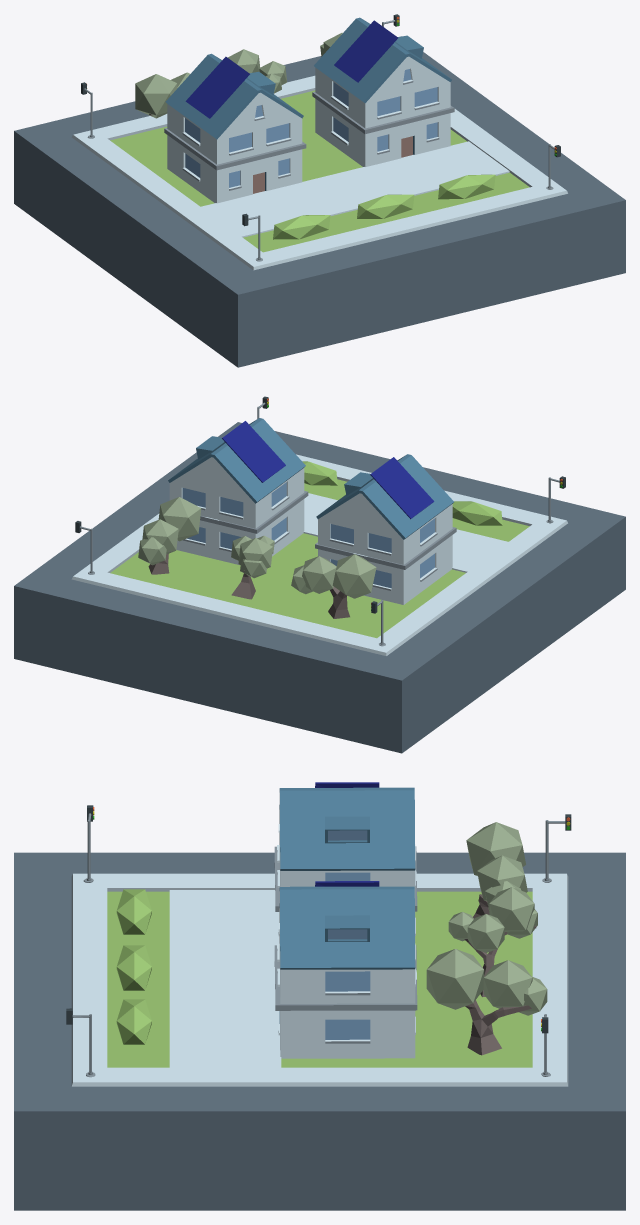
Rendered from smart-house.glb.
The picture shows the model from 3 angles, top to bottom: view 1: azimuth 30°, elevation 25°; view 2: azimuth 150°, elevation 25°; view 3: azimuth 270°, elevation 25°; orthographic projection. The views are drawn at different scales.
Parts seen in each view (by area): view 1: Cube.001, Cube, Cube.002, Cube.007, Plane.001, Icosphere, Icosphere.001, Icosphere.002, Cube.003; view 2: Cube.001, Cube, Cube.002, Plane.001, Plane, Cube.007, Cube.003, Icosphere, Icosphere.001; view 3: Cube.001, Cube.002, Cube.007, Cube, Plane, Cube.003, Plane.001, Icosphere.002, Icosphere, Icosphere.001.
Boxes of the visible parts, bbox=[...] form: Cube.001: bbox=[14, 36, 625, 367]; Cube: bbox=[164, 53, 306, 203]; Cube.002: bbox=[312, 17, 454, 166]; Cube.007: bbox=[201, 141, 509, 237]; Plane.001: bbox=[135, 72, 189, 118]; Icosphere: bbox=[273, 215, 330, 239]; Icosphere.001: bbox=[438, 174, 495, 199]; Icosphere.002: bbox=[357, 194, 414, 218]; Cube.003: bbox=[227, 49, 287, 93]; Cube.001: bbox=[14, 422, 625, 753]; Cube: bbox=[315, 454, 456, 604]; Cube.002: bbox=[168, 418, 308, 564]; Plane.001: bbox=[291, 554, 376, 618]; Plane: bbox=[138, 497, 201, 574]; Cube.007: bbox=[303, 493, 507, 572]; Cube.003: bbox=[231, 535, 274, 599]; Icosphere: bbox=[452, 501, 502, 525]; Icosphere.001: bbox=[302, 461, 337, 485]; Cube.001: bbox=[14, 852, 625, 1210]; Cube.002: bbox=[274, 881, 417, 1058]; Cube.007: bbox=[169, 890, 281, 1067]; Cube: bbox=[274, 782, 417, 942]; Plane: bbox=[426, 949, 547, 1055]; Cube.003: bbox=[448, 887, 537, 997]; Plane.001: bbox=[466, 822, 527, 918]; Icosphere.002: bbox=[116, 945, 151, 990]; Icosphere: bbox=[116, 889, 151, 934]; Icosphere.001: bbox=[116, 999, 151, 1044].
Size of the model in its own units: 17.05 by 7.71 by 17.05.
